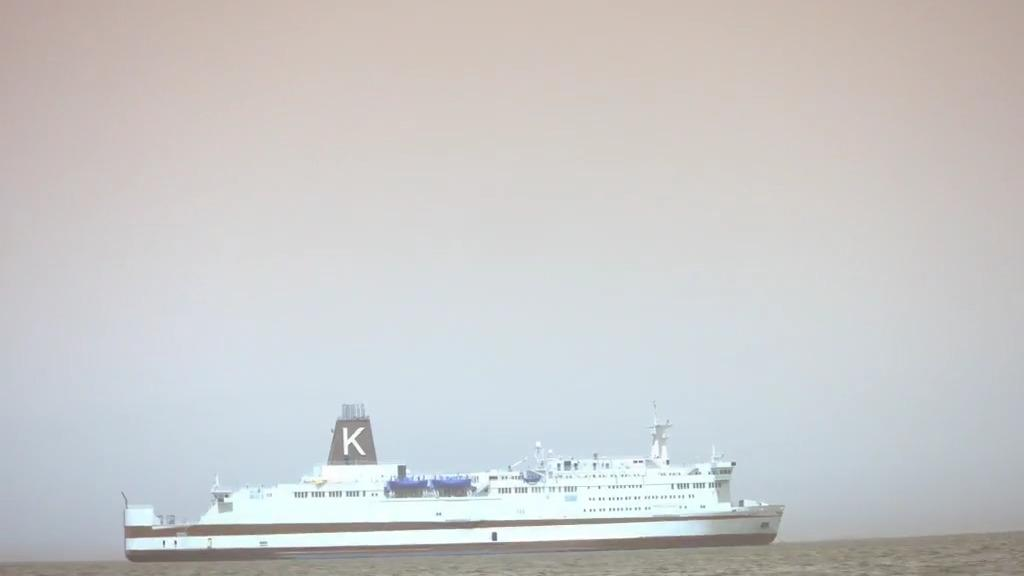PassengerShip: (114, 398, 788, 558)
